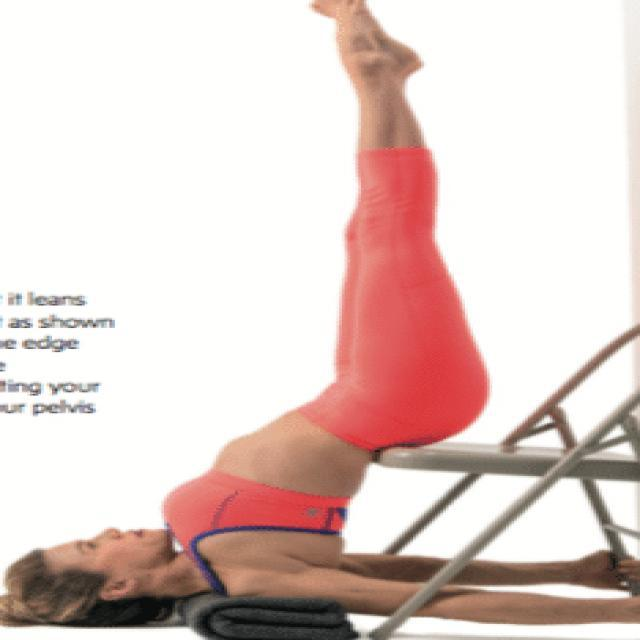yoga-pose shoulderstand: (9, 0, 552, 624)
